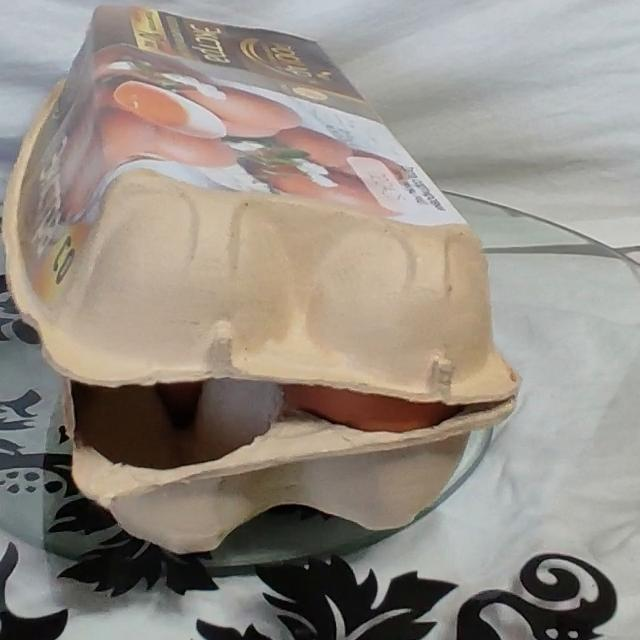egg: (0, 0, 520, 558)
